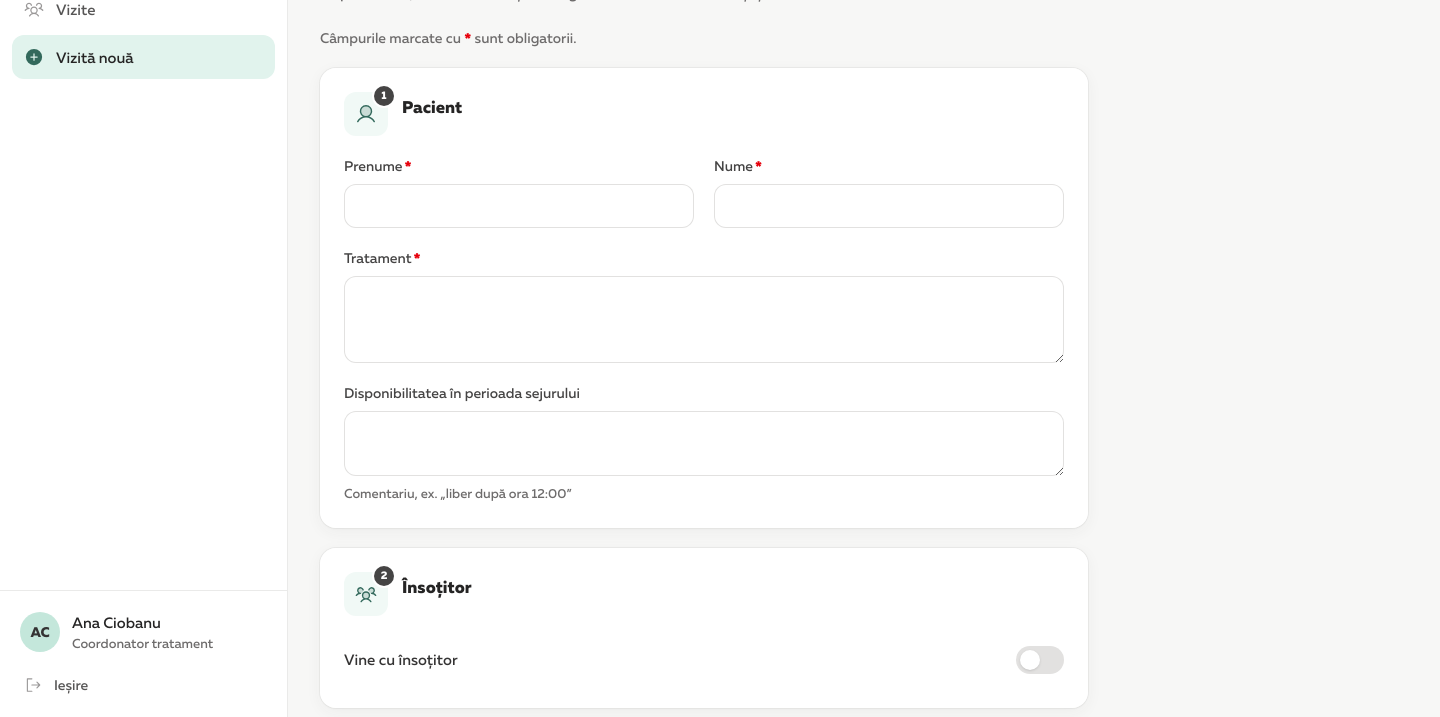
formularul „Vizită nouă” › tratamentul însoțitorului gol: eroarea apare la câmpul lui
Click the switch labelled "Vine cu însoțitor": (401, 659) [344, 646, 1064, 674]
(page scrolled)
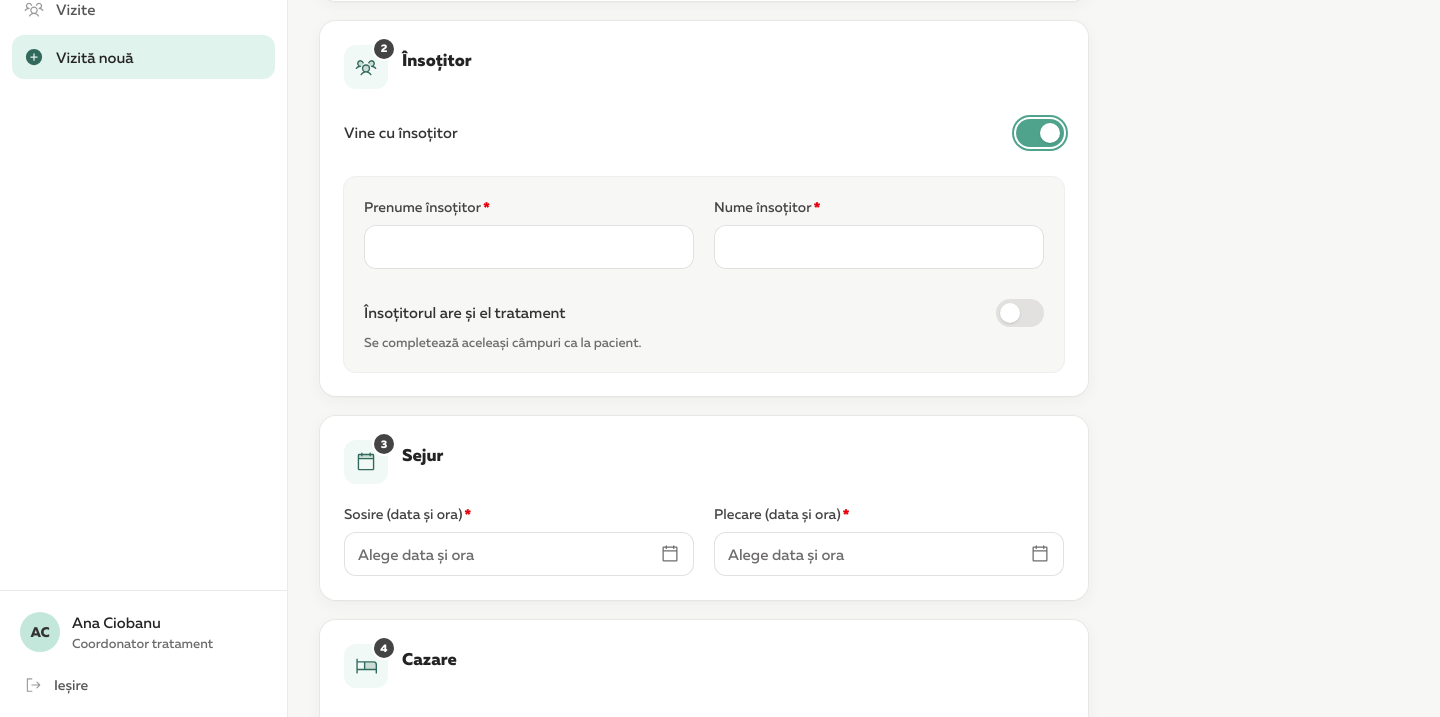
Click the switch labelled "Însoțitorul are și el tratament": (465, 312) [364, 298, 1044, 326]
(page scrolled)
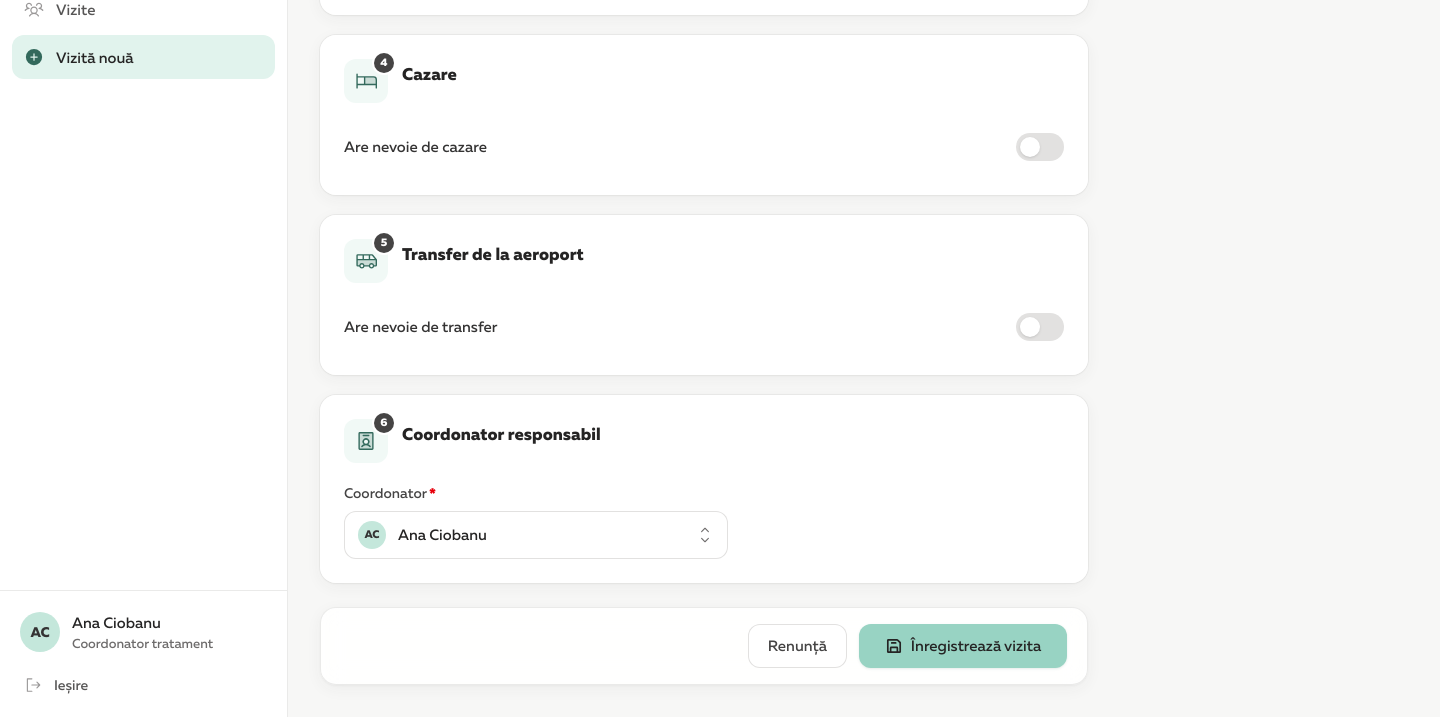
Click the button "Înregistrează vizita": (963, 646) [859, 624, 1067, 668]
(page scrolled)
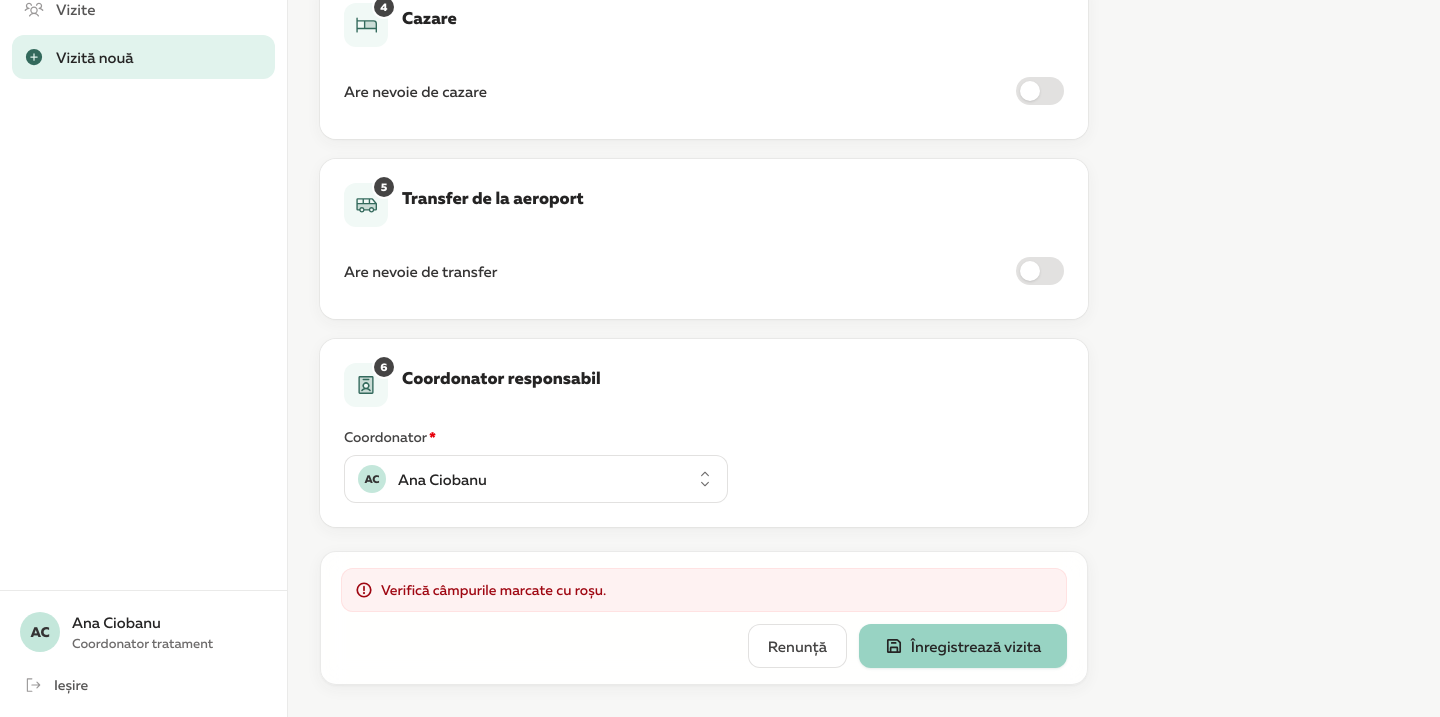
Result: the message reads "Verifică câmpurile marcate cu roșu." at [381, 581, 606, 598]
